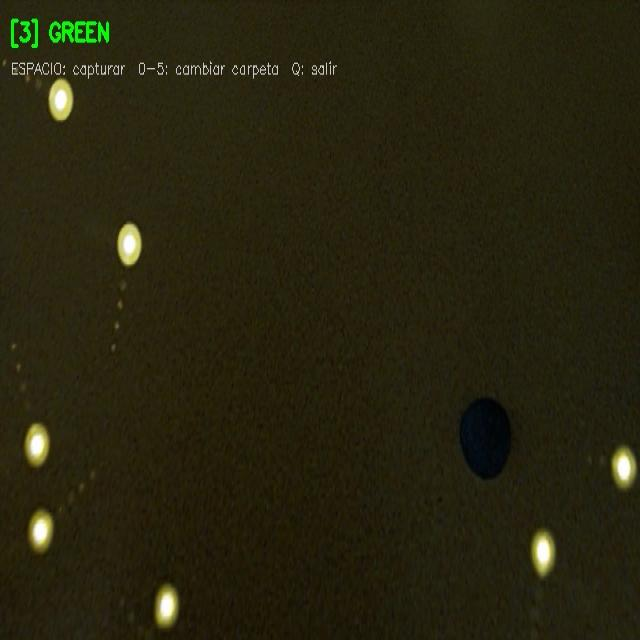green: (458, 393, 510, 480)
